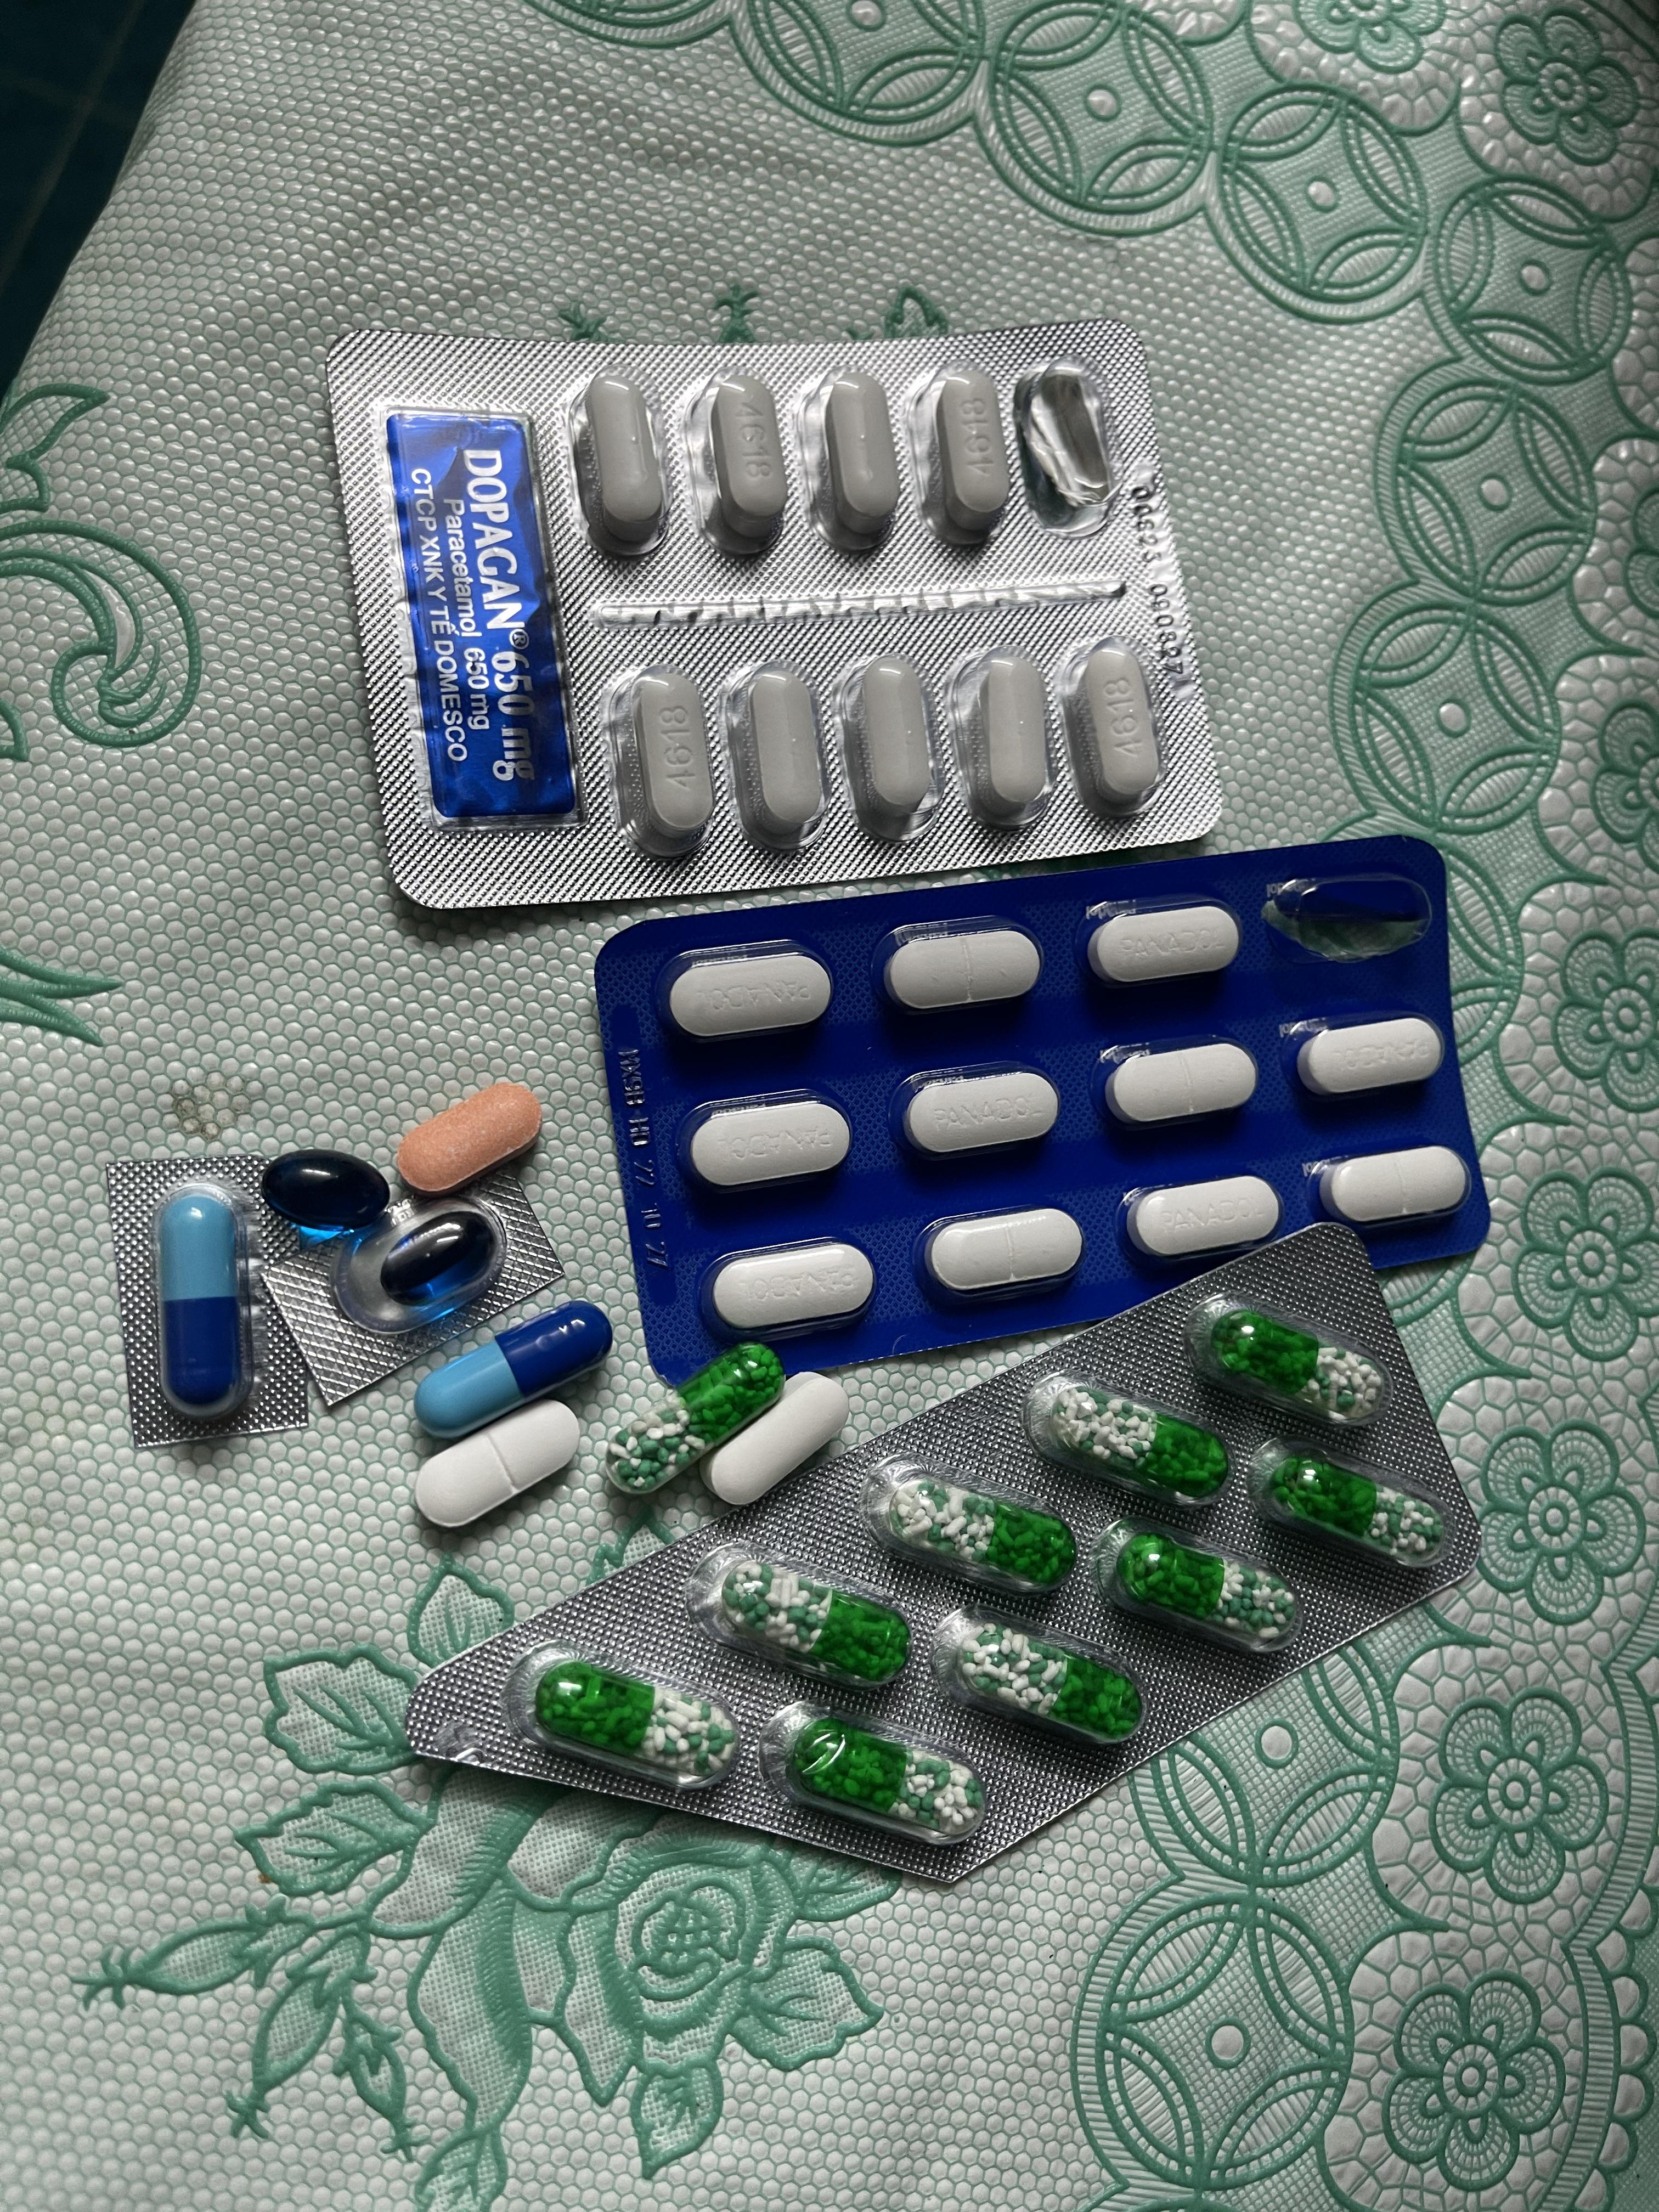Lincomyxin_500mg: (258, 1151, 392, 1240), (378, 1212, 497, 1301)
Loratadine_10mg: (396, 1083, 544, 1195)
Paracetamol_350mg: (413, 1400, 584, 1527), (660, 941, 833, 1042), (704, 1242, 873, 1341), (683, 1096, 856, 1191), (875, 916, 1044, 1012), (896, 1066, 1063, 1160), (1103, 1040, 1260, 1129), (1084, 902, 1239, 986), (1131, 1174, 1281, 1259), (927, 1209, 1084, 1289), (1298, 1017, 1450, 1097), (1316, 1144, 1467, 1224)
Paracetamol_500mg: (606, 664, 718, 857), (721, 660, 831, 850), (831, 651, 941, 836), (706, 1371, 850, 1507), (800, 364, 903, 554), (1056, 636, 1162, 817), (948, 639, 1051, 826), (910, 364, 1014, 547), (692, 369, 791, 552), (570, 373, 669, 554)
Paracetamol_650mg: (601, 1341, 789, 1493), (540, 1665, 735, 1775), (720, 1564, 903, 1681), (793, 1723, 976, 1836), (884, 1479, 1070, 1588), (957, 1627, 1133, 1742), (1209, 1315, 1384, 1423), (1265, 1454, 1441, 1561), (1112, 1540, 1286, 1644), (1060, 1390, 1225, 1496)
pill: (416, 1299, 612, 1437), (155, 1183, 251, 1421)
